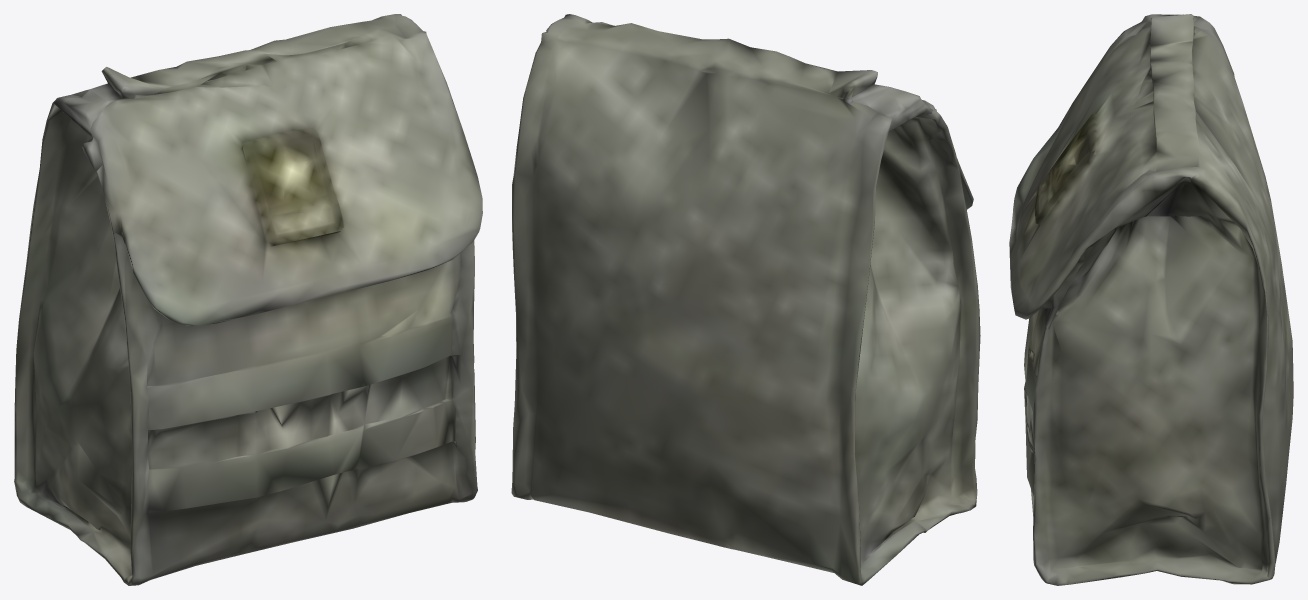
Rendered from US_Army_Stash_Lunch_Bag-medium.glb.
3 renders of one model, left to right at view 1: azimuth 30°, elevation 25°; view 2: azimuth 150°, elevation 25°; view 3: azimuth 270°, elevation 25°, orthographic. The views are drawn at different scales.
Parts seen in each view (by area): view 1: US_Army_Stash_Lunch_Bag; view 2: US_Army_Stash_Lunch_Bag; view 3: US_Army_Stash_Lunch_Bag.
Boxes of the visible parts, box(x1,y1,x2,y2) form: US_Army_Stash_Lunch_Bag: box(14, 14, 482, 585); US_Army_Stash_Lunch_Bag: box(511, 14, 980, 585); US_Army_Stash_Lunch_Bag: box(1009, 14, 1293, 585).
Bounding box in the file's own units: 0.2243 × 0.2737 × 0.1604.
1 material, 1 textured.
